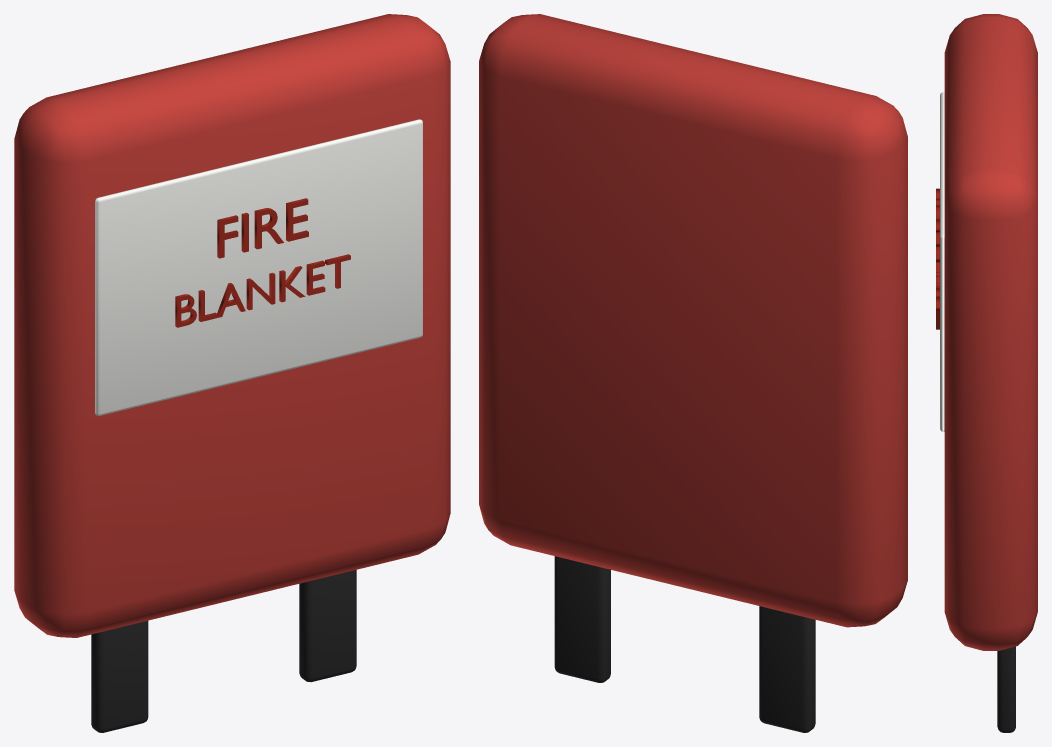
The model's file is FireBlanket.fbx.
3 views of the same model, side by side, from view 1: azimuth 30°, elevation 25°; view 2: azimuth 150°, elevation 25°; view 3: azimuth 270°, elevation 25° (orthographic). The views are drawn at different scales.
Parts seen in each view (by area): view 1: FireBlanket; view 2: FireBlanket; view 3: FireBlanket.
Boxes of the visible parts, box(x1,y1,x2,y2) form: FireBlanket: box(14, 14, 450, 732); FireBlanket: box(479, 14, 907, 732); FireBlanket: box(936, 14, 1037, 732).
Bounding box in the file's own units: 0.28 × 0.415 × 0.0655.
